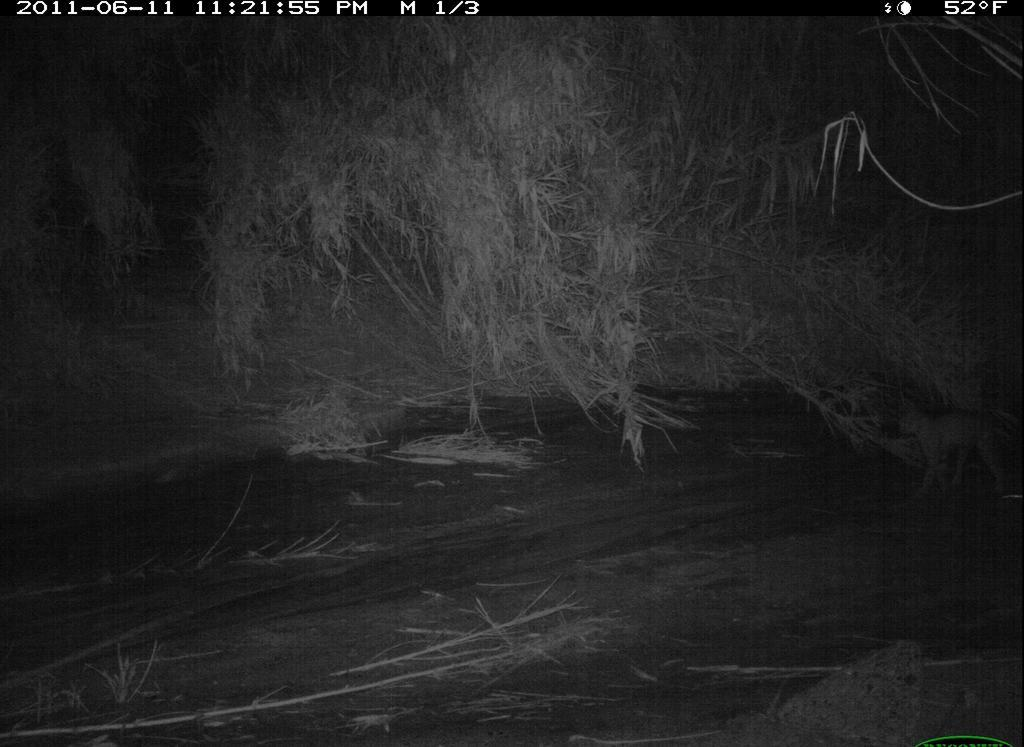bobcat: (892, 394, 1012, 500)
